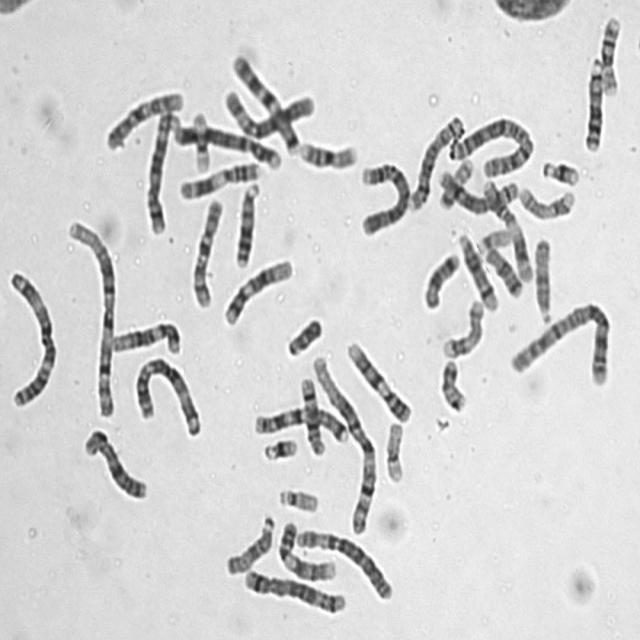A1: (308, 346, 379, 535), (61, 213, 119, 420)
A2: (504, 294, 614, 388), (444, 108, 536, 179)
A3: (2, 262, 60, 410), (130, 350, 204, 440)
B4: (169, 116, 285, 171), (355, 152, 412, 238)
B5: (238, 562, 348, 616), (139, 101, 182, 236)
C10: (100, 83, 186, 153), (186, 190, 226, 310)
C11: (476, 172, 535, 284), (174, 154, 264, 200)
C12: (219, 252, 295, 328), (106, 314, 184, 356)
C6: (288, 521, 394, 602), (218, 82, 317, 140)
C7: (227, 45, 302, 155), (248, 398, 352, 446)
C8: (405, 108, 467, 212), (434, 162, 520, 214)
C9: (342, 334, 414, 426), (273, 513, 339, 583)
D13: (230, 173, 263, 270), (579, 51, 606, 154)
D14: (454, 225, 501, 312), (294, 370, 328, 458)
D15: (220, 508, 277, 577), (529, 230, 555, 326)
E16: (294, 133, 360, 171), (596, 9, 624, 98)
E17: (437, 294, 486, 361), (514, 178, 576, 222)
E18: (418, 246, 462, 310), (480, 238, 525, 300)
F19: (380, 414, 407, 486), (188, 105, 214, 175)
F20: (434, 150, 476, 212), (435, 354, 469, 414)
G21: (538, 152, 581, 188), (258, 430, 300, 464)
G22: (274, 480, 320, 515), (474, 220, 513, 254)
X: (78, 422, 150, 502)
Y: (282, 311, 324, 358)
